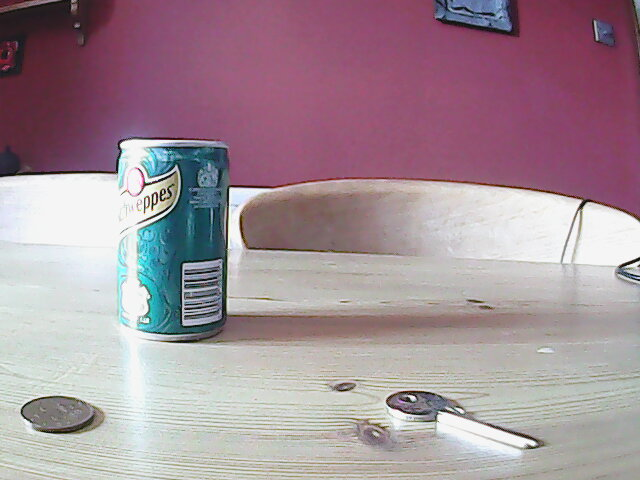Can: (109, 134, 228, 341)
Coin: (15, 392, 100, 438)
Key: (383, 386, 542, 454)
